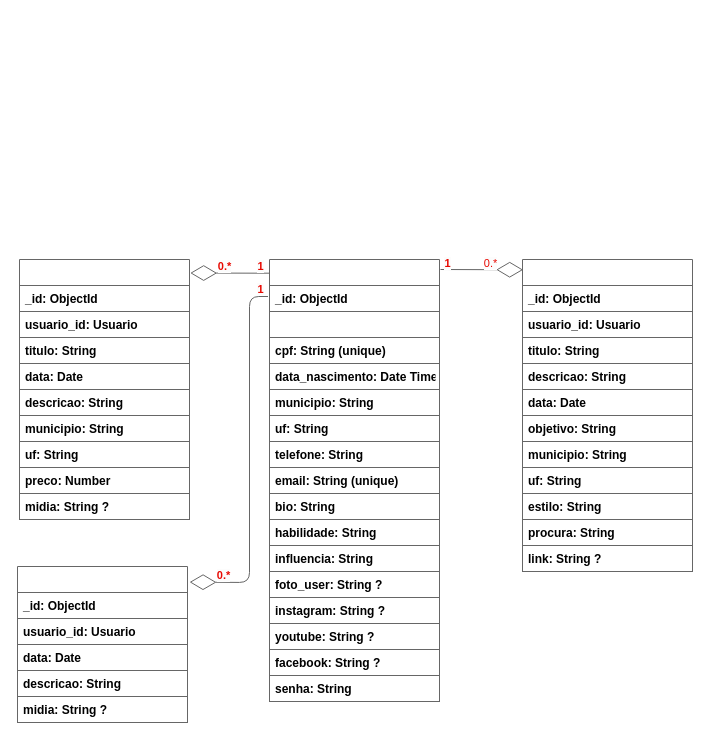
Some shapes in this 710 by 743 pixel diagram are drawn without their labels. Each missing label, with the box of its shape:
nome: String: (268, 310, 440, 338)
Post: (16, 566, 188, 722)
Projeto: (522, 258, 692, 572)
Usuario: (268, 258, 440, 702)
Venda: (18, 258, 190, 520)
